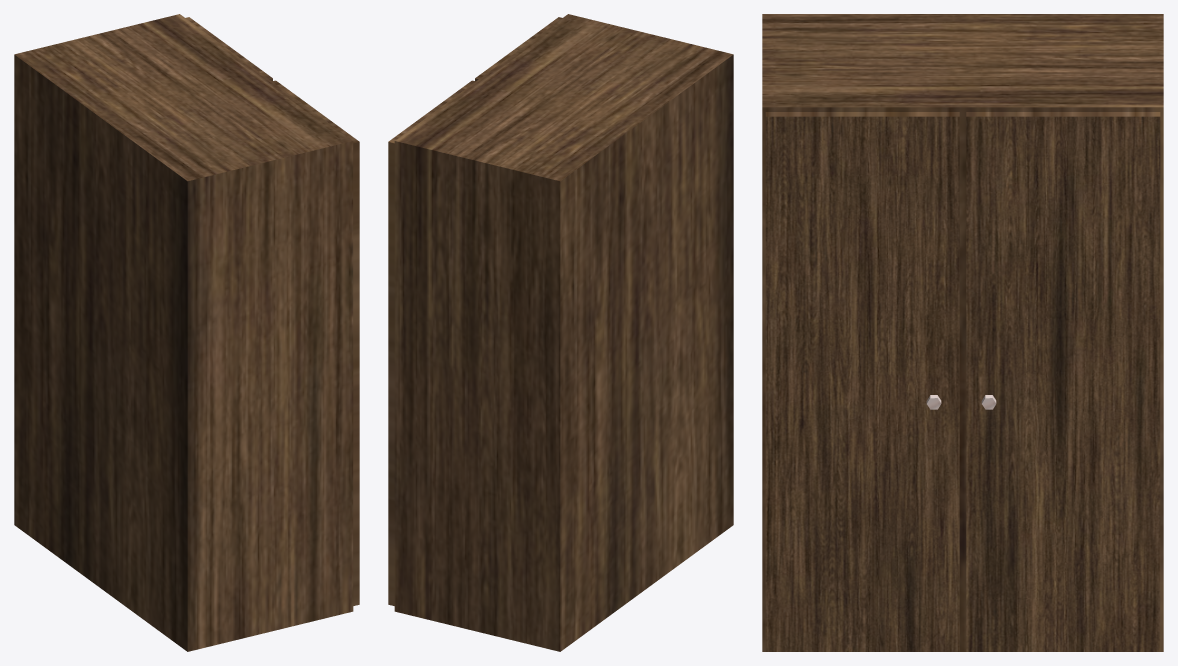
File: WARDROBE_01.fbx
3 views of the same model, side by side, from view 1: azimuth 30°, elevation 25°; view 2: azimuth 150°, elevation 25°; view 3: azimuth 270°, elevation 25° (orthographic). The views are drawn at different scales.
Visible parts, largest first — view 1: WARDROBE_01; view 2: WARDROBE_01; view 3: WARDROBE_01.
Part boxes in pixels (bbox=[...]): WARDROBE_01: bbox=[14, 14, 359, 651]; WARDROBE_01: bbox=[388, 14, 733, 651]; WARDROBE_01: bbox=[762, 14, 1163, 651].
Bounding box in the file's own units: 70.08 × 176 × 118.
